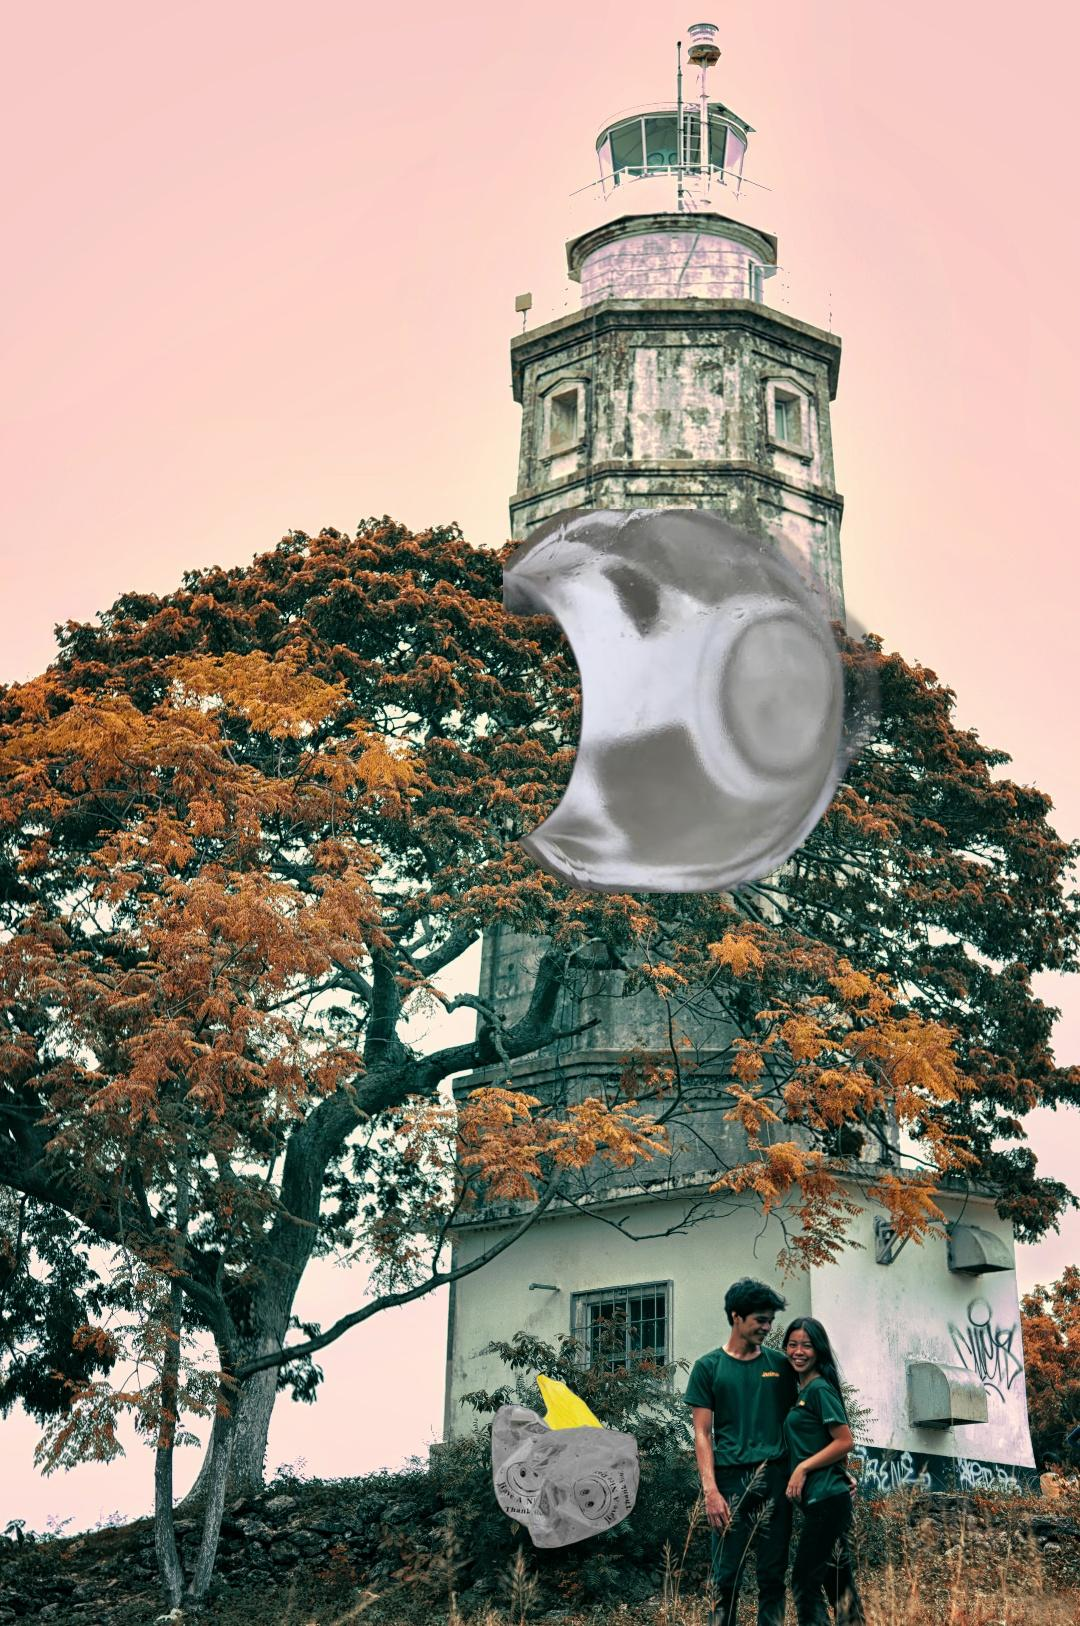glass: (503, 509, 892, 893)
plastic-bag: (488, 1372, 644, 1550)
